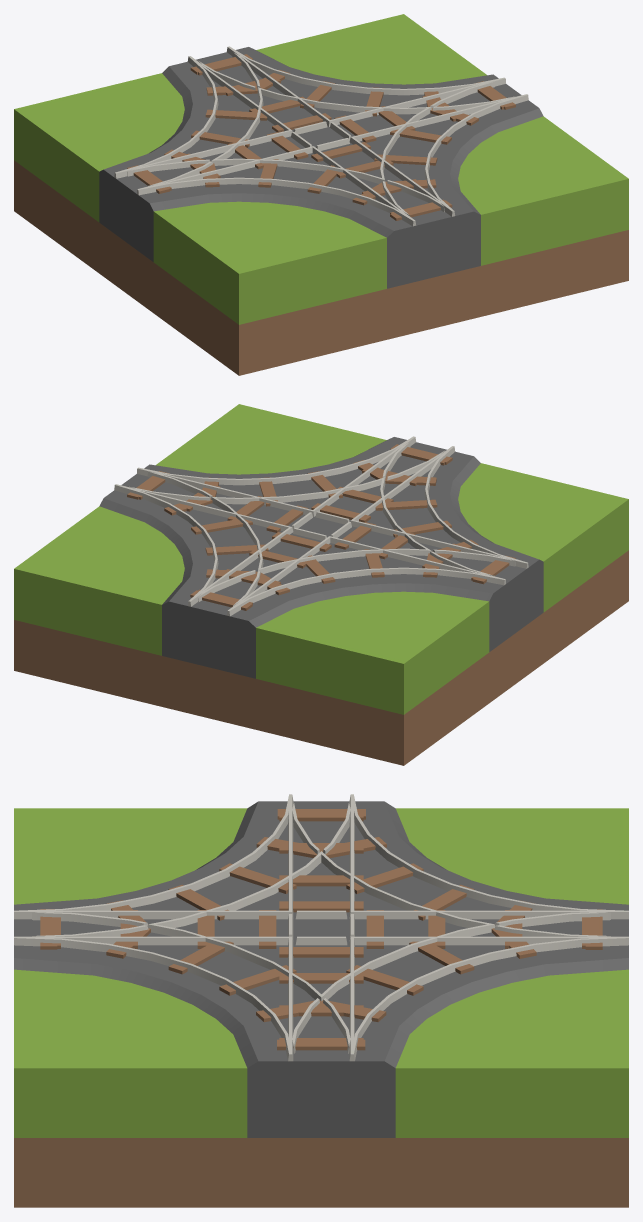
File: rail_cross3.fbx
3 views of the same model, one above another, from view 1: azimuth 30°, elevation 25°; view 2: azimuth 150°, elevation 25°; view 3: azimuth 270°, elevation 25° (orthographic). The views are drawn at different scales.
Parts seen in each view (by area): view 1: landscape-track-1-diamond.001; view 2: landscape-track-1-diamond.001; view 3: landscape-track-1-diamond.001.
Part boxes in pixels (<box>): landscape-track-1-diamond.001: <box>14,14,628,375</box>; landscape-track-1-diamond.001: <box>14,404,628,765</box>; landscape-track-1-diamond.001: <box>14,794,628,1207</box>.
Size of the model in its own units: 8 by 2.2 by 8.
Materials: 1 (1 with a texture image).
